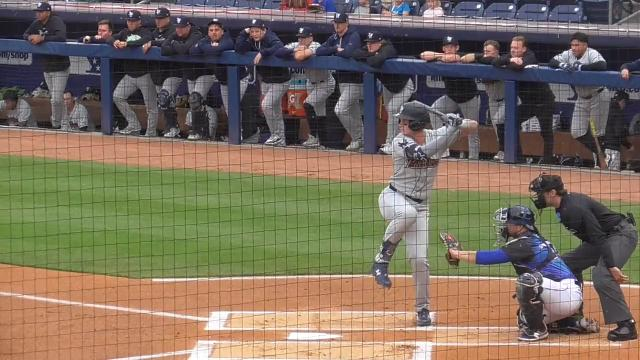bat: (412, 101, 444, 121)
